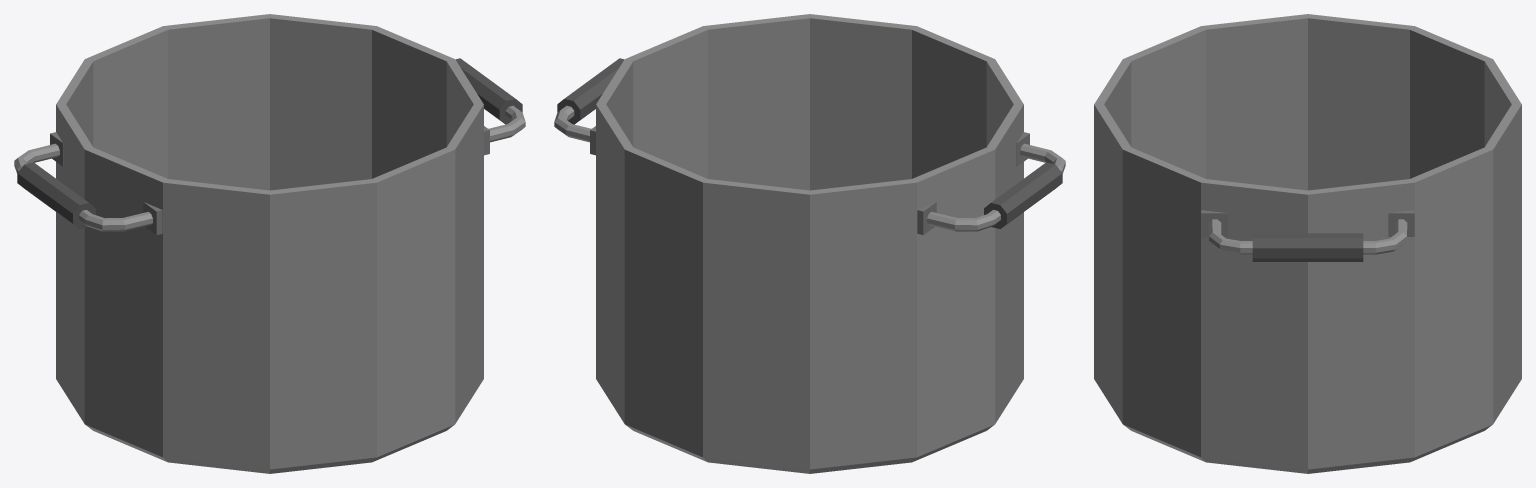
Rendered from SM_Food_Pan_01.fbx.
The picture shows the model from 3 angles, left to right: view 1: azimuth 30°, elevation 25°; view 2: azimuth 150°, elevation 25°; view 3: azimuth 270°, elevation 25°; orthographic projection.
Visible parts, largest first — view 1: SM_Food_Pan_01; view 2: SM_Food_Pan_01; view 3: SM_Food_Pan_01.
Part boxes in pixels (bbox=[...]): SM_Food_Pan_01: bbox=[14, 14, 525, 473]; SM_Food_Pan_01: bbox=[554, 14, 1065, 473]; SM_Food_Pan_01: bbox=[1094, 14, 1521, 473].
Bounding box in the file's own units: 0.2228 × 0.1342 × 0.1836.
